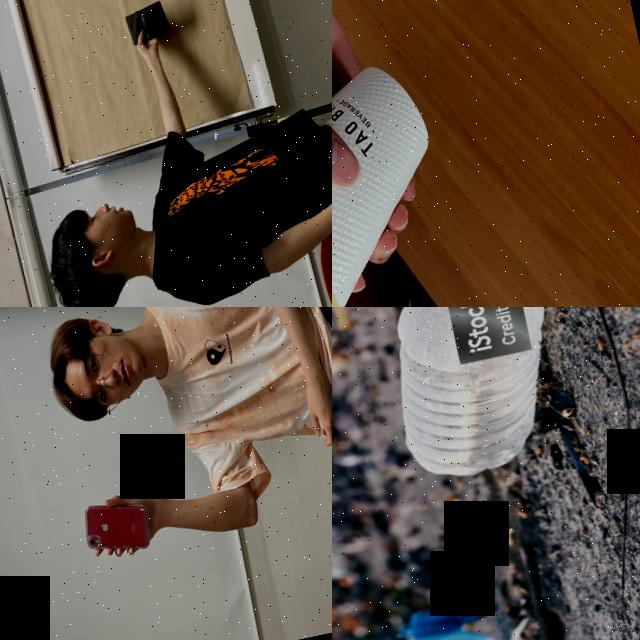bottle: (361, 307, 574, 486)
cup: (332, 47, 468, 307)
